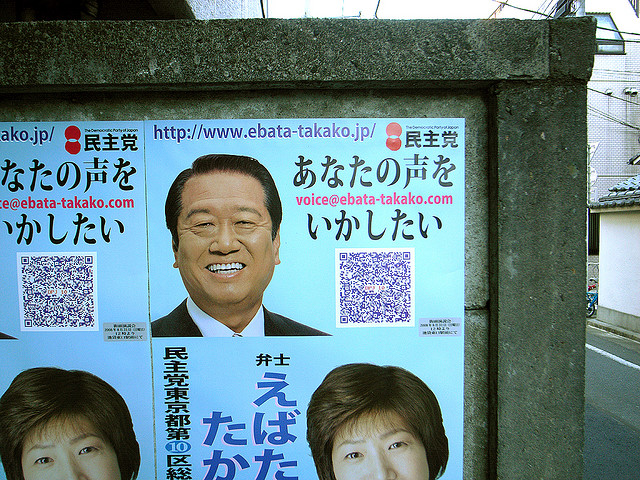QR-CODE: (21, 256, 94, 326), (340, 252, 410, 322)
